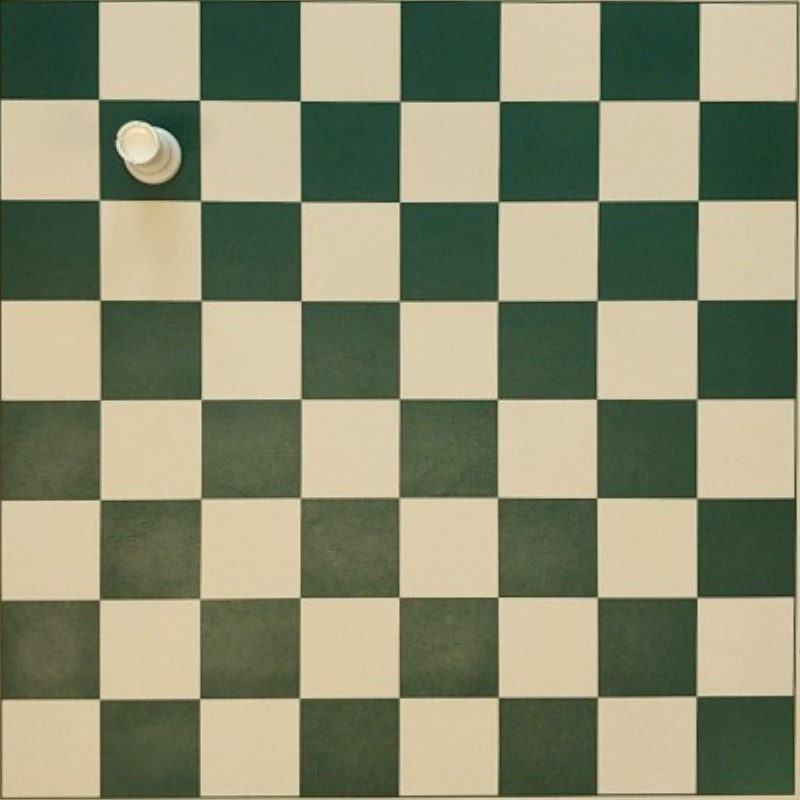white-rook: (114, 120, 181, 185)
